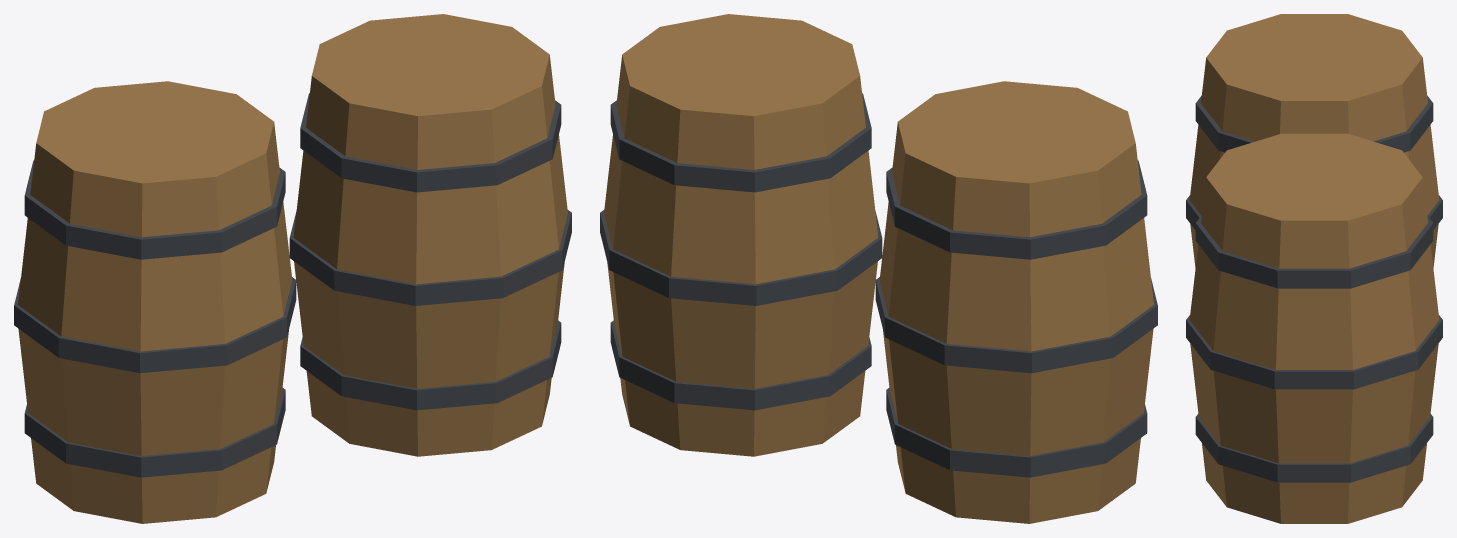
The model's file is pile_beer_1.glb.
3 views of the same model, side by side, from view 1: azimuth 30°, elevation 25°; view 2: azimuth 150°, elevation 25°; view 3: azimuth 270°, elevation 25° (orthographic). The views are drawn at different scales.
Visible parts, largest first — view 1: pile_beer_1; view 2: pile_beer_1; view 3: pile_beer_1.
Part boxes in pixels (bbox=[...]): pile_beer_1: bbox=[14, 14, 571, 523]; pile_beer_1: bbox=[600, 14, 1157, 523]; pile_beer_1: bbox=[1186, 14, 1442, 523].
Bounding box in the file's own units: 1.34 × 0.85 × 0.6528.
